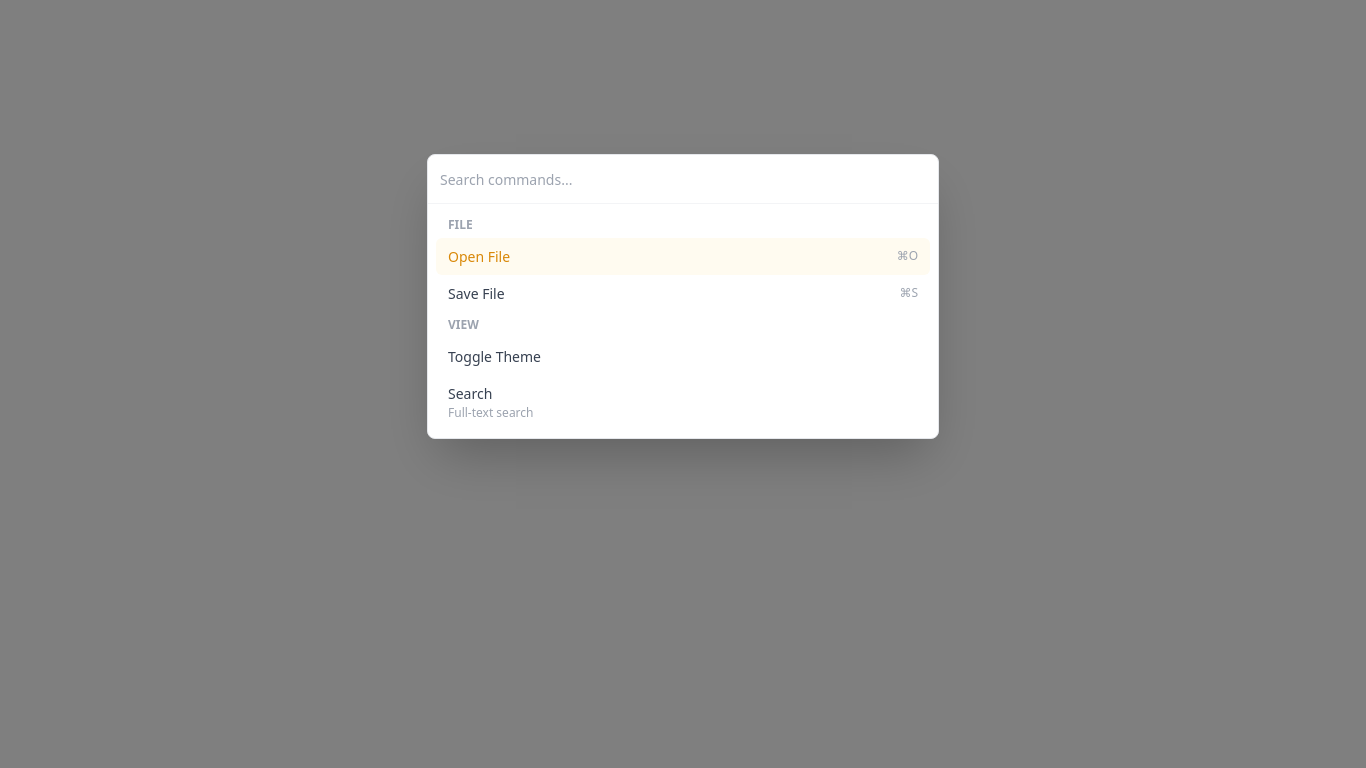
Test: CommandPalette › shows empty state when no results
Type "zzzzz" into the field with placeholder "Search commands..." at (683, 179), box left=440, top=169, right=926, bottom=190
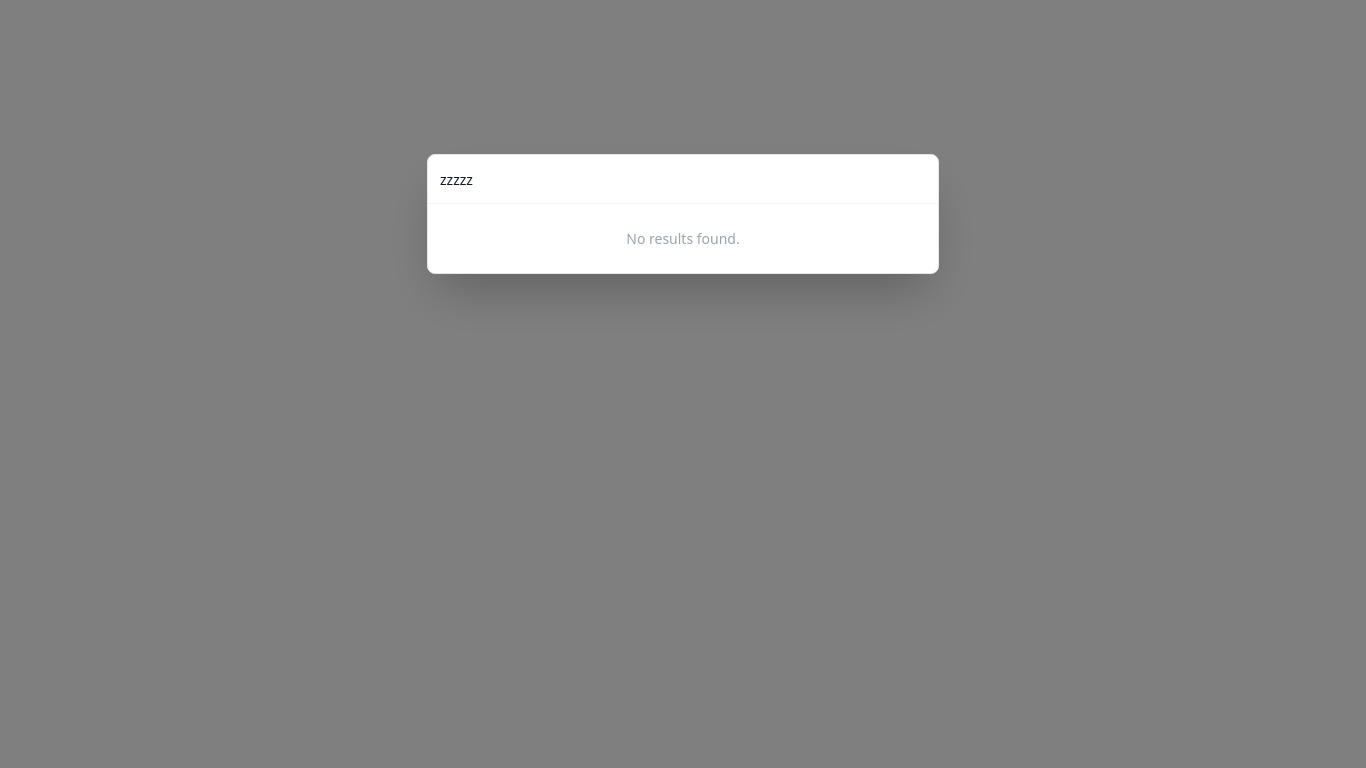
Expected: the text "No results found." is shown, left=626, top=229, right=740, bottom=248
